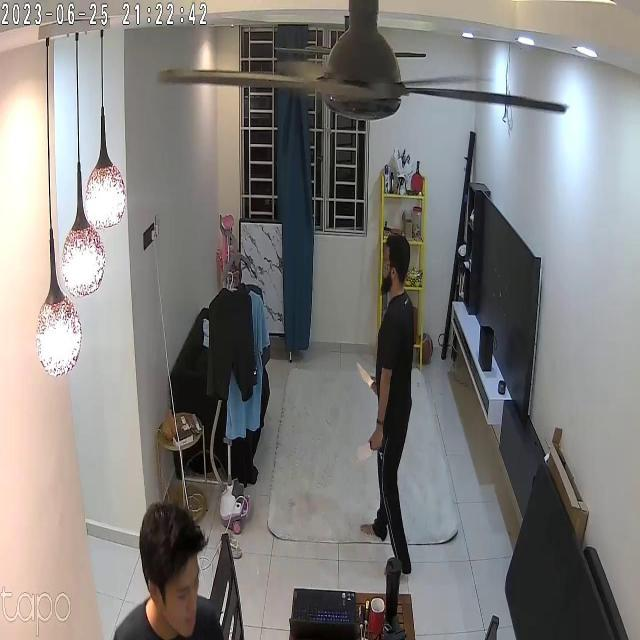Knife: (349, 435, 392, 469), (346, 352, 376, 392)
